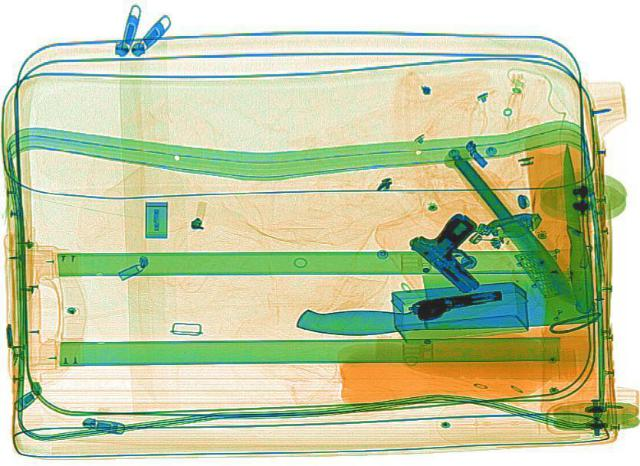Gun: (401, 209, 524, 293), (405, 287, 505, 321)
Knife: (436, 144, 588, 310), (290, 268, 596, 335), (550, 142, 598, 310)
